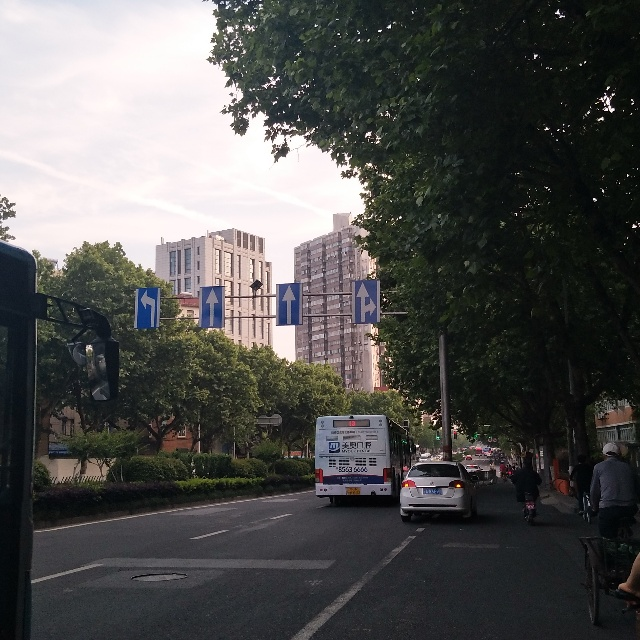left: (133, 283, 160, 330)
straight: (274, 281, 305, 329), (200, 281, 226, 329)
